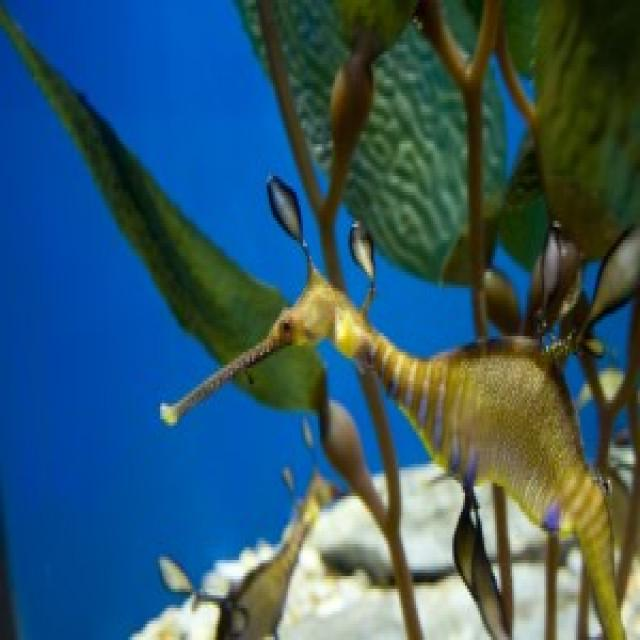Seahorse: (137, 257, 633, 638)
